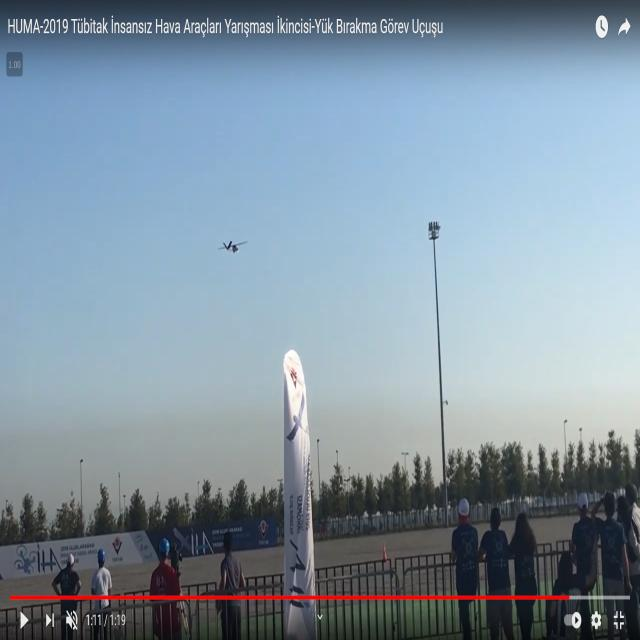iha: (218, 241, 248, 254)
